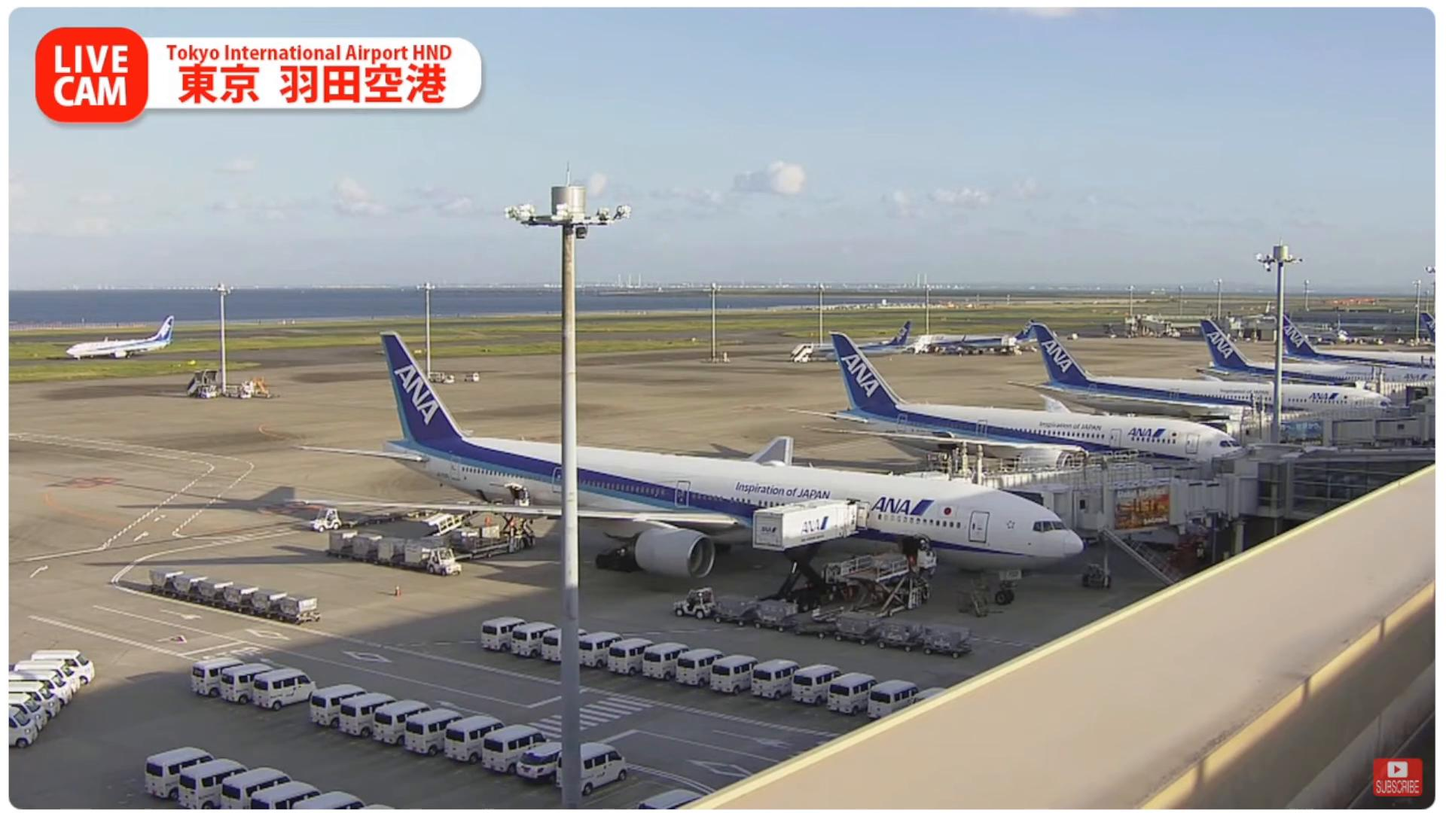Aerobridge: (990, 474, 1217, 523), (903, 458, 1204, 486)
Airplane: (290, 334, 1085, 584)
Catering: (752, 497, 860, 615)
Dolly: (710, 610, 975, 657), (148, 566, 320, 624), (318, 530, 417, 570), (350, 507, 432, 525)
JCPL: (817, 551, 941, 626), (444, 510, 538, 562)
Skyloader: (419, 512, 479, 546)
Tractor: (673, 588, 719, 618), (416, 548, 458, 575), (318, 506, 355, 530)
Window: (1253, 443, 1435, 520)
